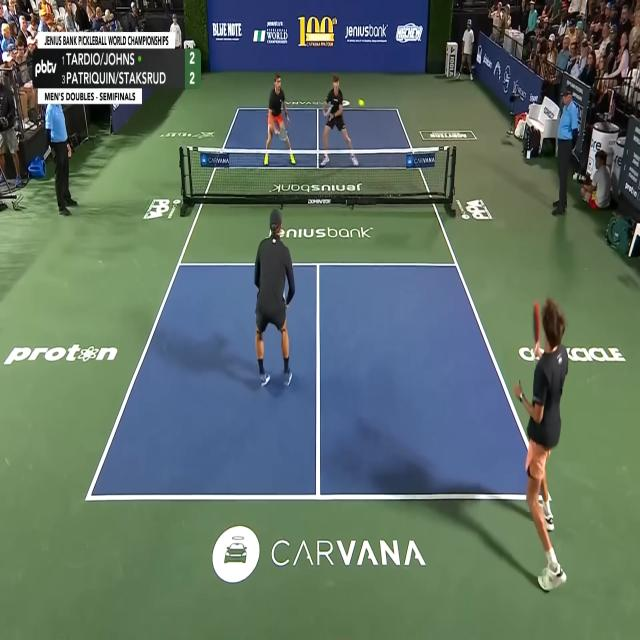ball: (358, 98, 366, 107)
